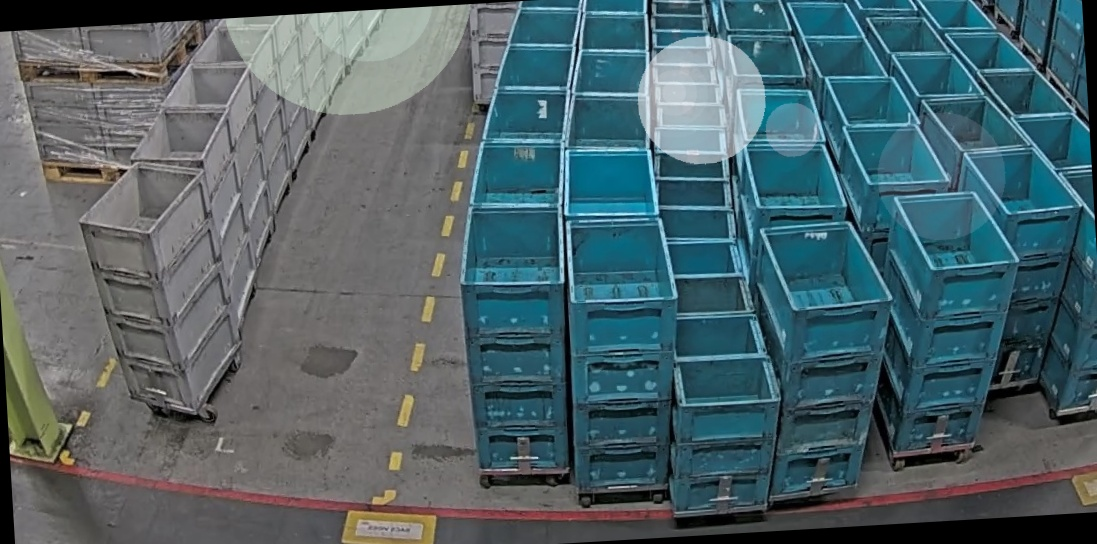4G: (76, 156, 247, 422)
B4: (863, 188, 1032, 458), (749, 220, 905, 501), (560, 216, 691, 493), (955, 144, 1096, 389), (456, 201, 579, 476)
B8: (660, 310, 788, 518)
